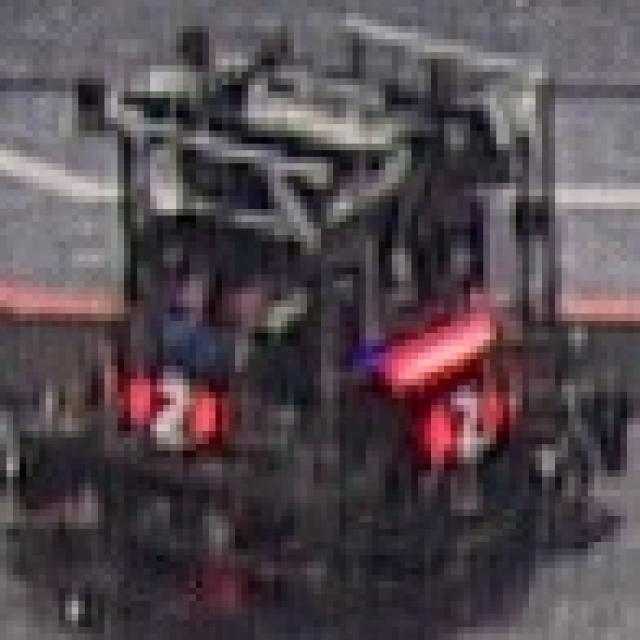R2: (101, 356, 232, 467), (398, 366, 516, 464)
